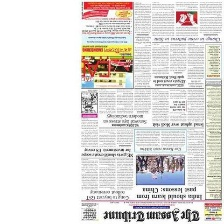news_paper: (77, 0, 223, 223)
